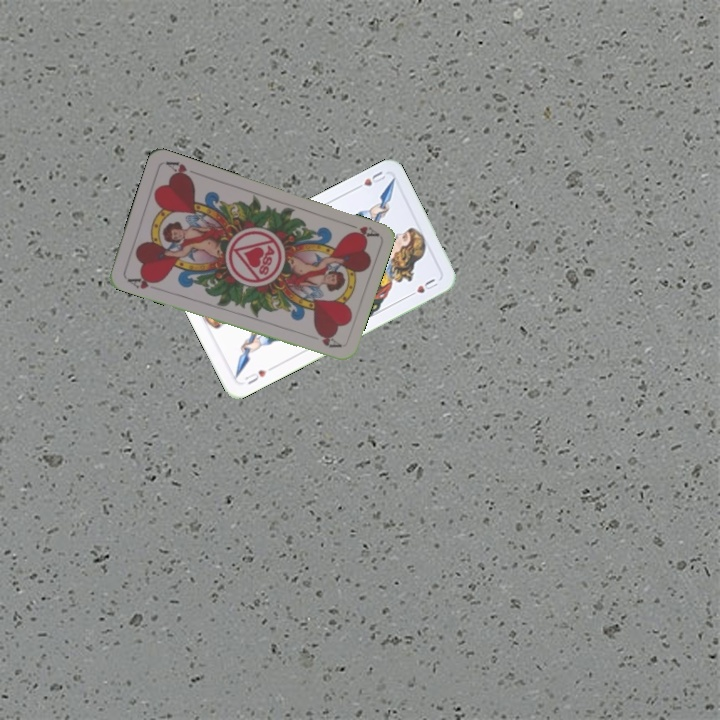HA: (340, 218, 380, 242), (123, 272, 162, 292)
HU: (350, 167, 388, 193), (241, 366, 269, 387)
